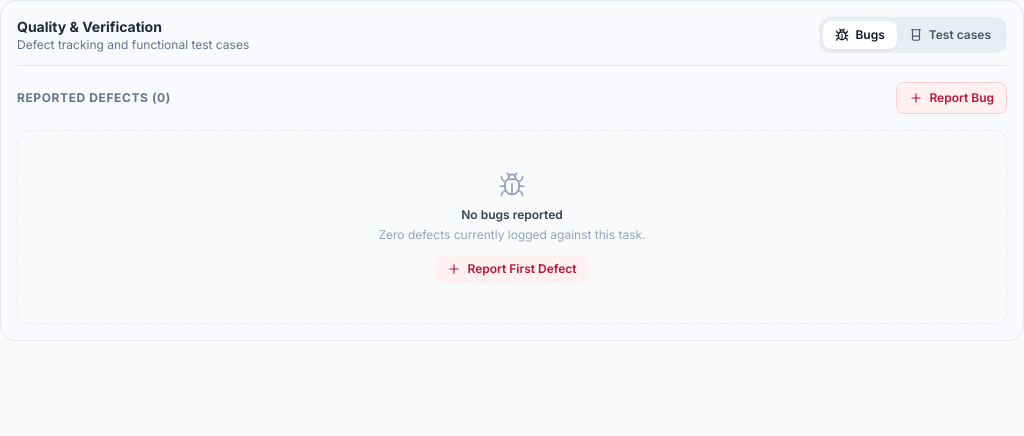
MODULE F7: Bugs and Test Cases › Mounting in TaskPanel slot › Mounts a "Bugs" tab and a "Test cases" tab in TaskPanel slot and toggles between them
Expected: the button with test id "tab-button-bugs" is shown, [823,21,897,49]
Expected: the element with test id "tab-bugs" is shown, [17,82,1007,324]
// Switch to Test cases tab
What coordinates should you click on to do the following:
click the button with test id "tab-button-test-cases"
I would click on:
 (950, 35)
Its box is [897,21,1003,49].
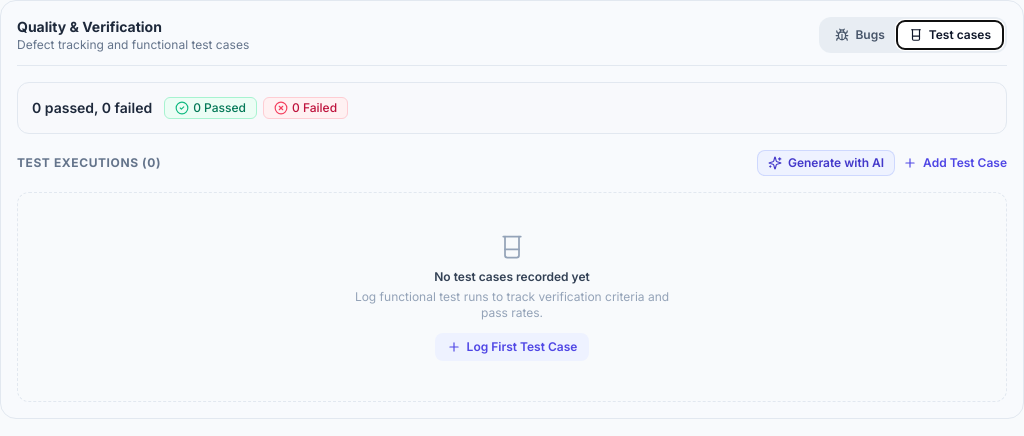
Expected: the element with test id "tab-test-cases" is shown
Expected: the element with test id "tab-bugs" is gone
// Switch back to Bugs tab
What coordinates should you click on to do the following:
click the button with test id "tab-button-bugs"
I would click on:
 (860, 35)
Its box is [823,21,897,49].
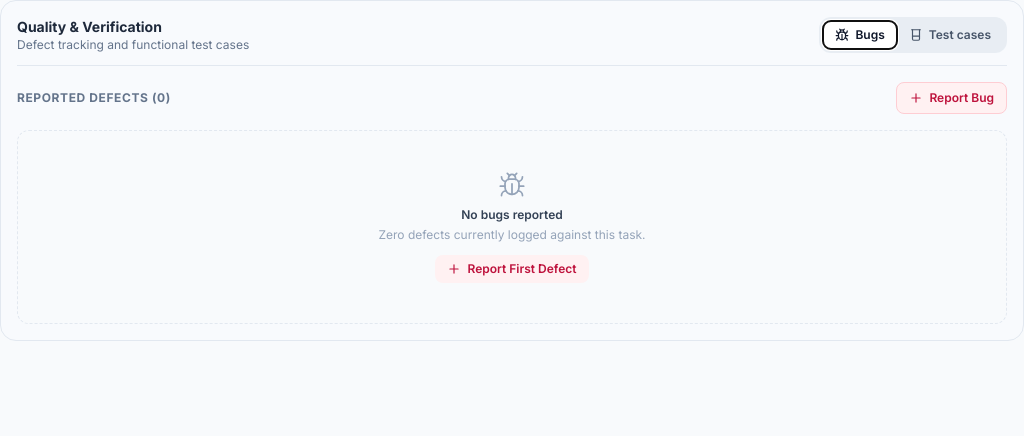
Expected: the element with test id "tab-bugs" is shown, [17,82,1007,324]
